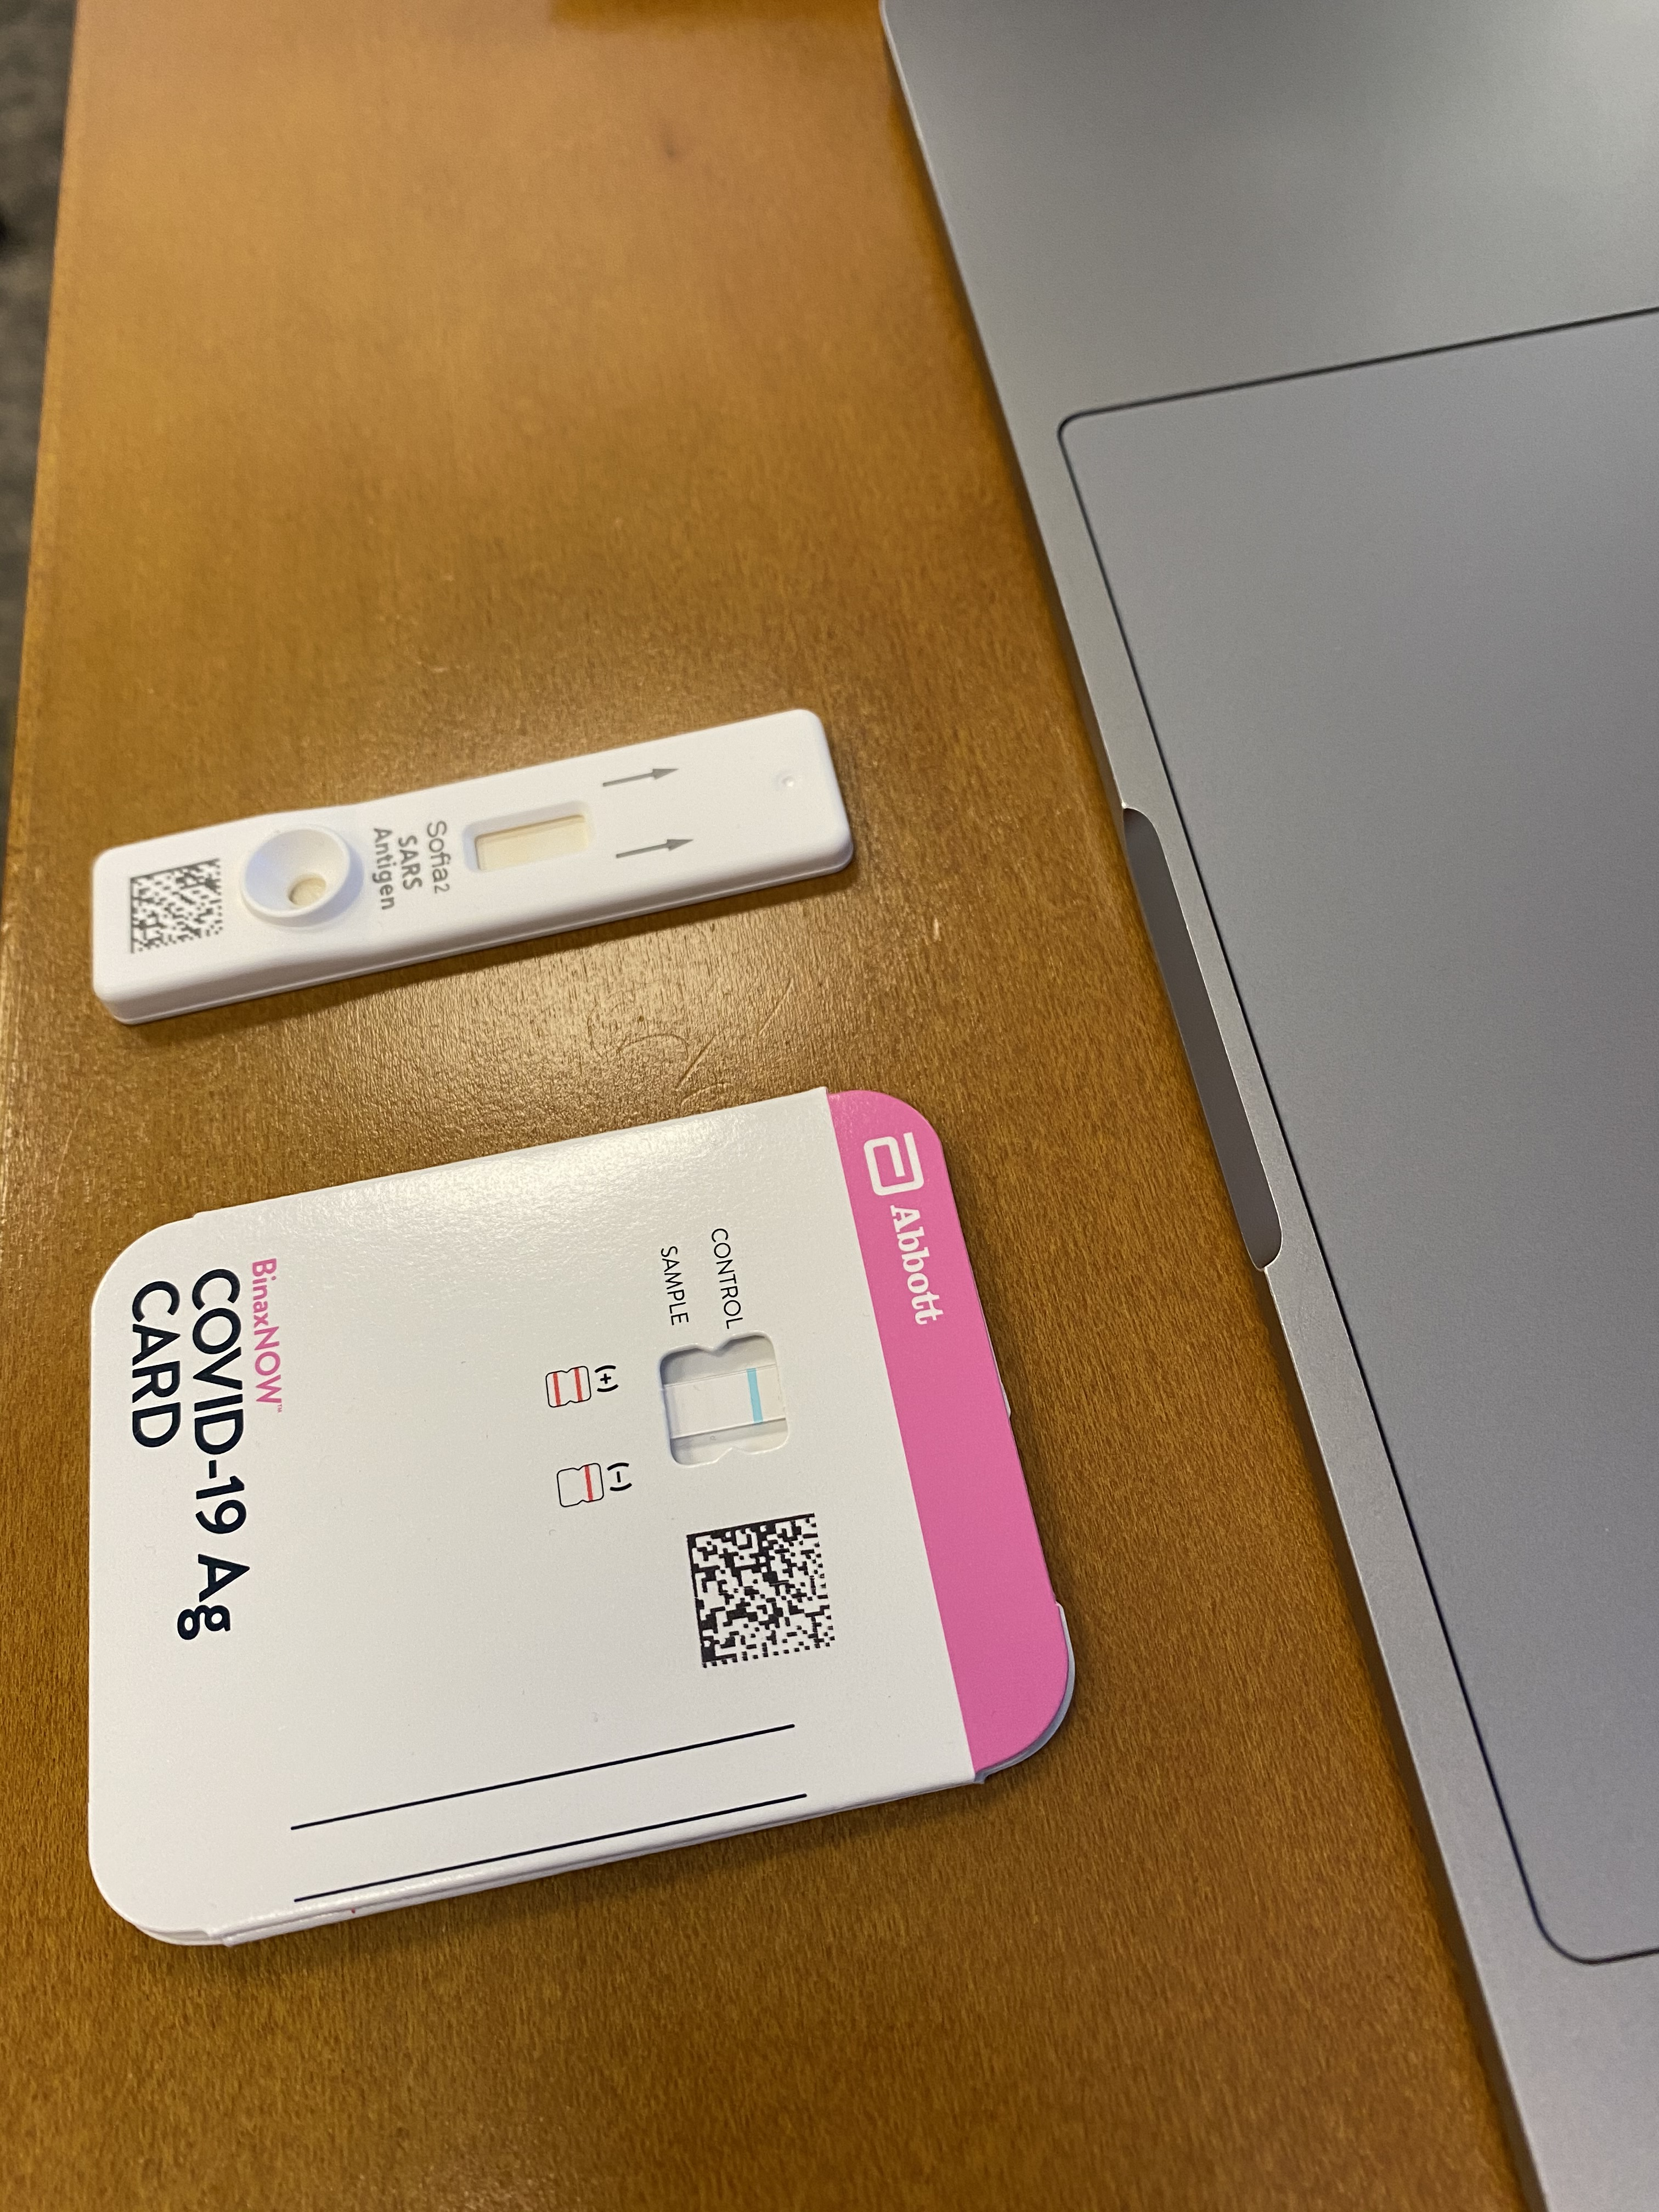binax: (82, 1082, 1077, 1958)
quidel: (70, 702, 873, 1031)
